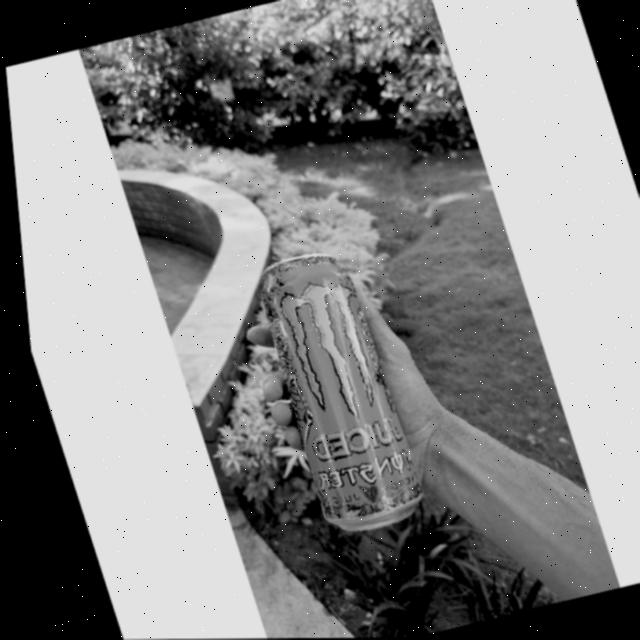Monster Mango Loco: (235, 242, 419, 532)
